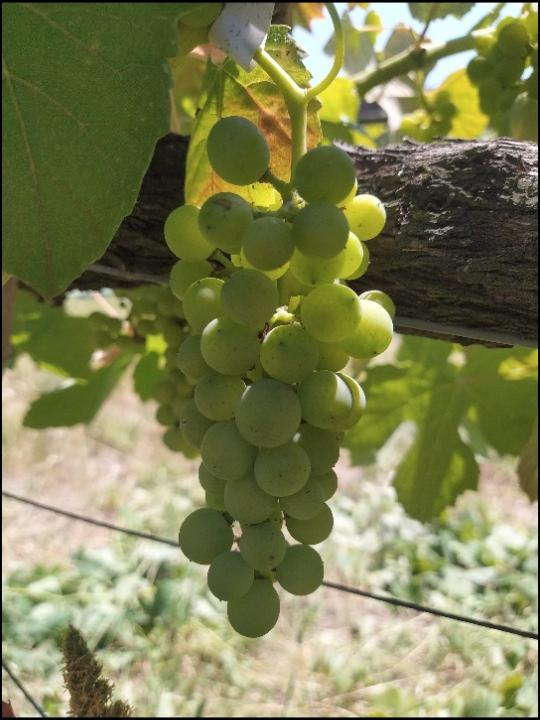grape: (164, 116, 399, 640)
